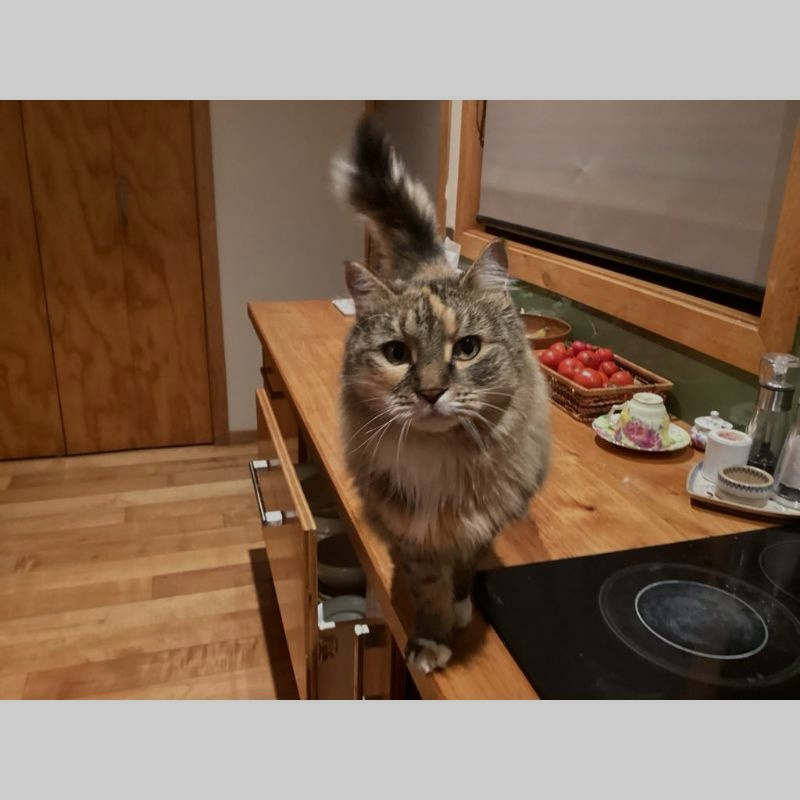yellow: (332, 100, 552, 676)
